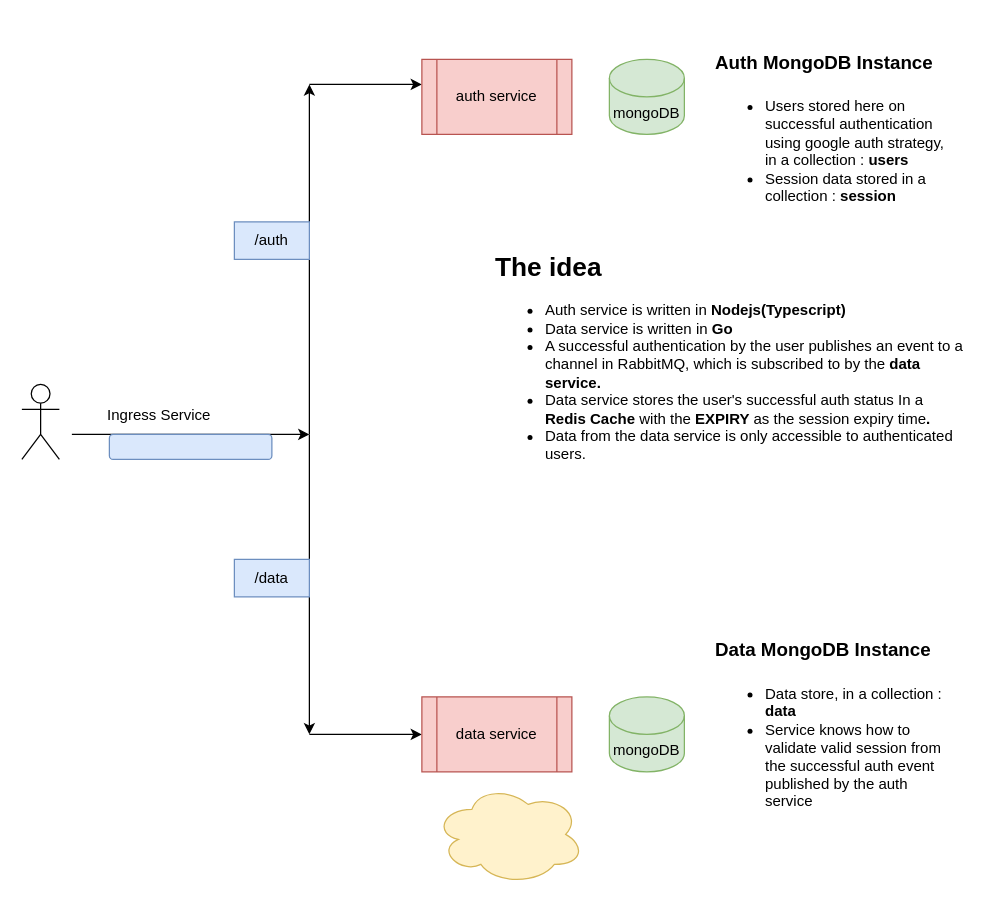
Some shapes in this 994 by 906 pixel diagram are drawn without their labels. The box of each missing label's shape, as (x1, y1, x2, y2) in pixels:
nginx routing rules: (108, 433, 272, 459)
REDIS: (433, 783, 584, 884)
User: (21, 383, 59, 459)
